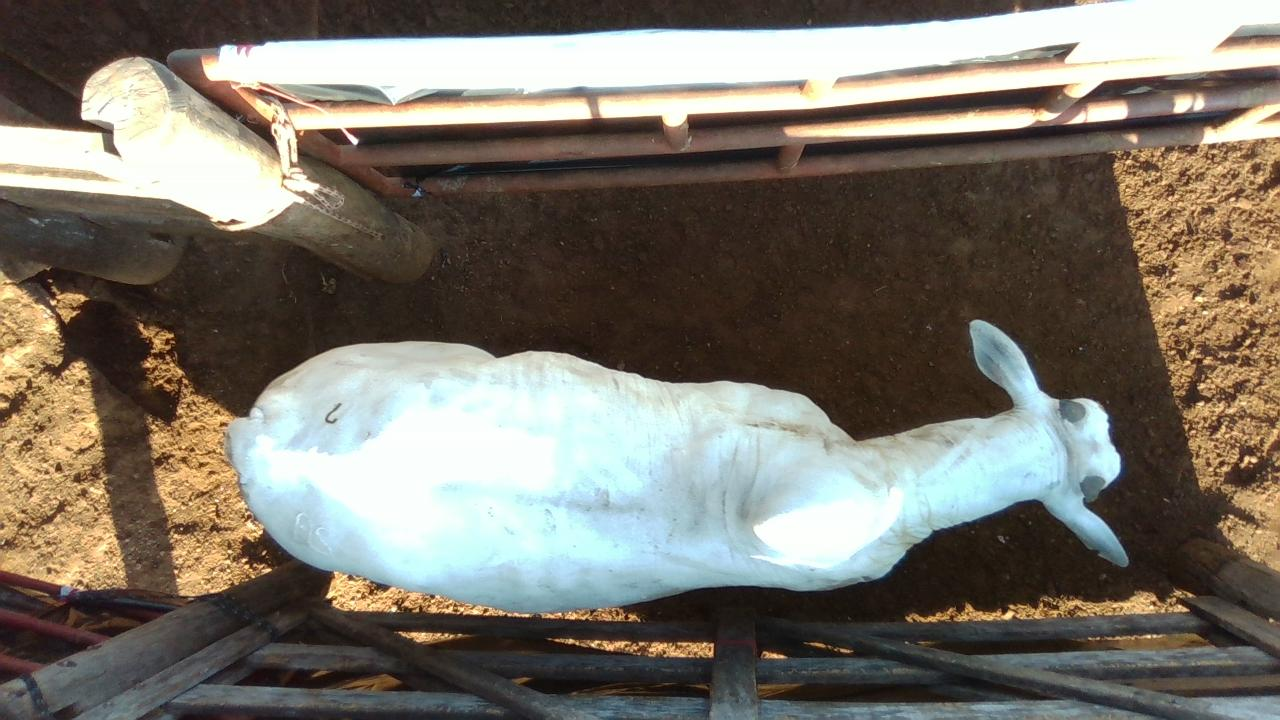cattle: (223, 317, 1130, 614)
